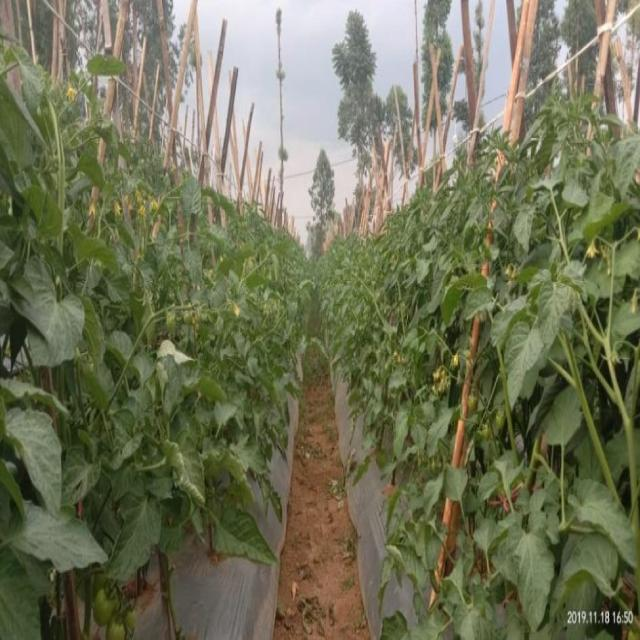row: (252, 284, 391, 640)
